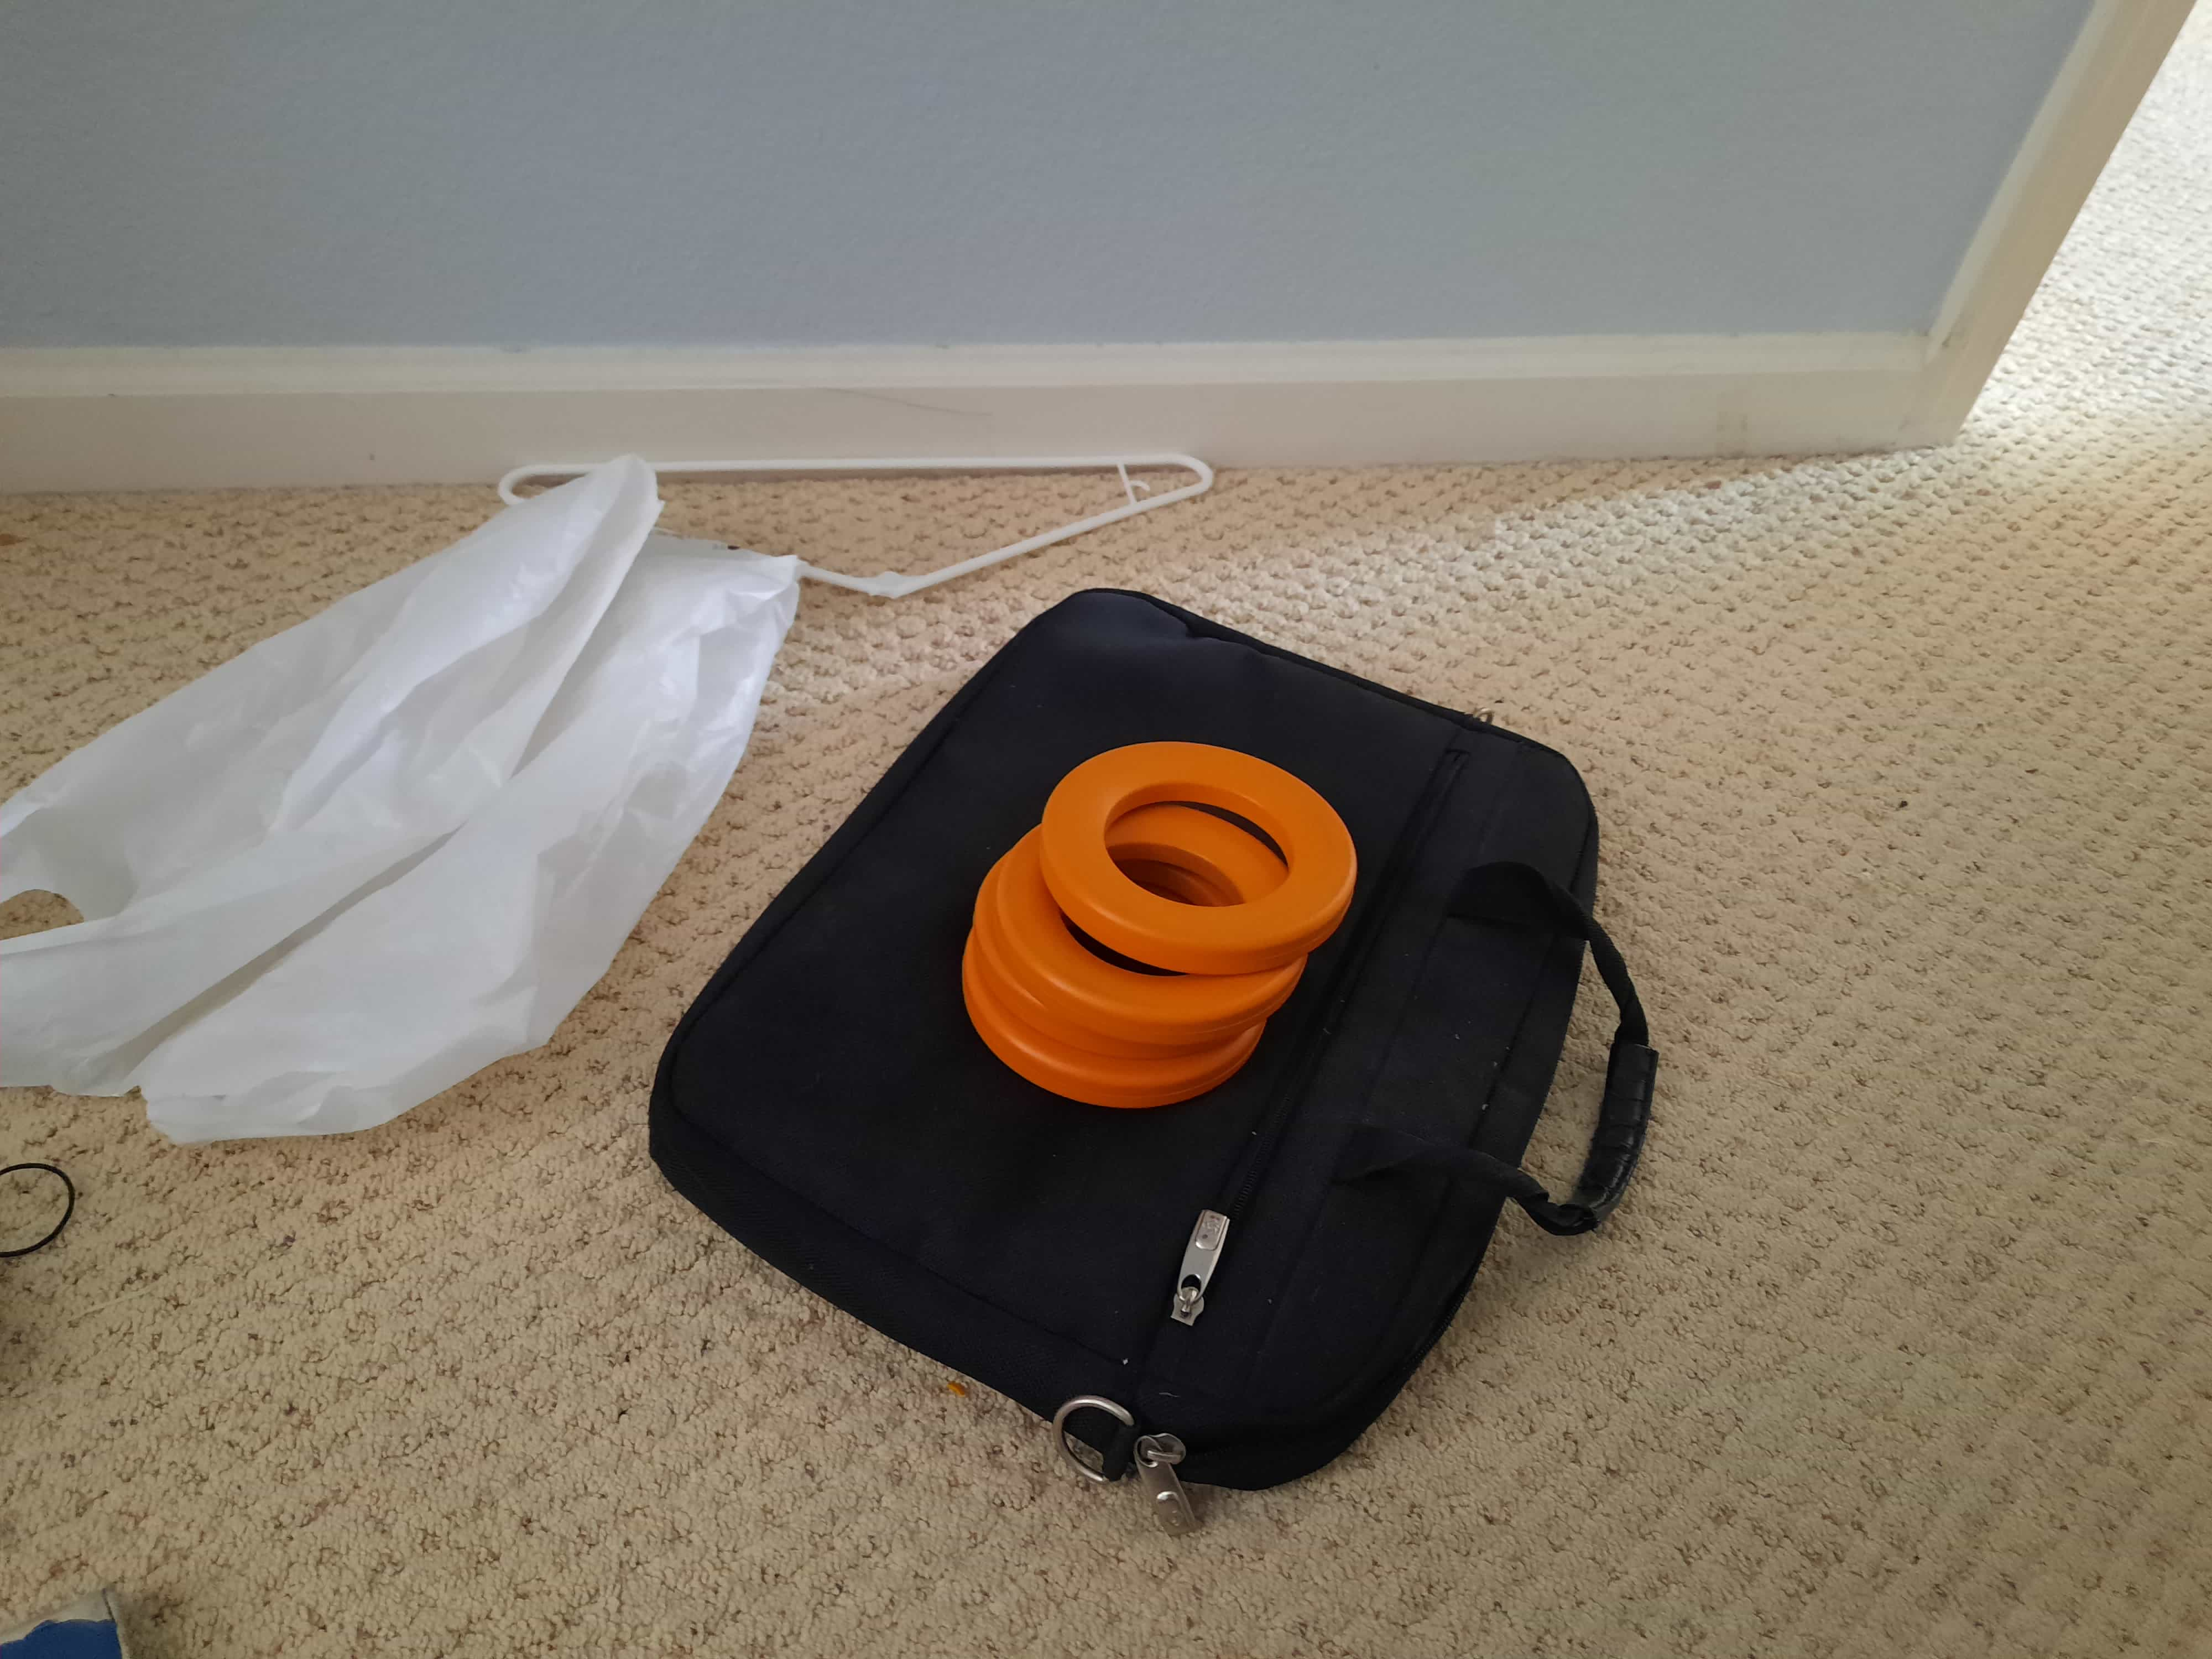FourStack: (958, 727, 1359, 1114)
